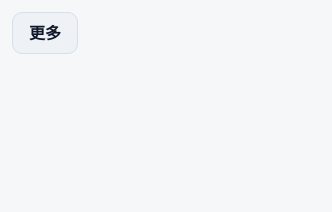
it: Menu › opens from the keyboard, skips disabled items, and selects
Press ArrowDown in the button "更多", box [12,12,78,54]
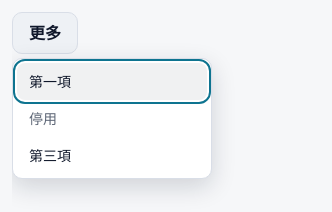
Press ArrowDown in the menu, box [12,58,212,179]
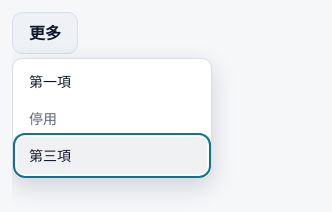
Click the menu item "第三項".
click(112, 156)  # box [17,137,207,174]
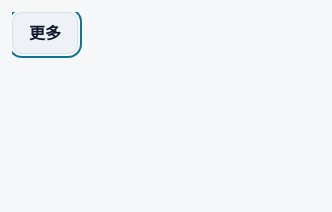
Now the menu is gone
